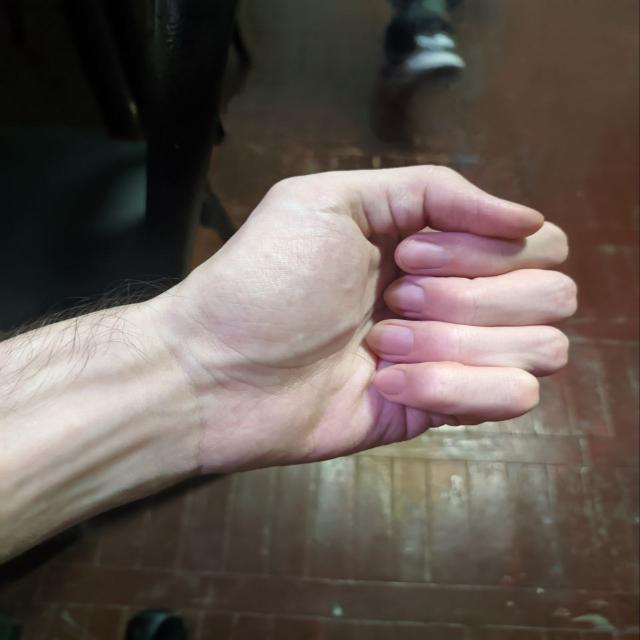a: (248, 147, 581, 418)
